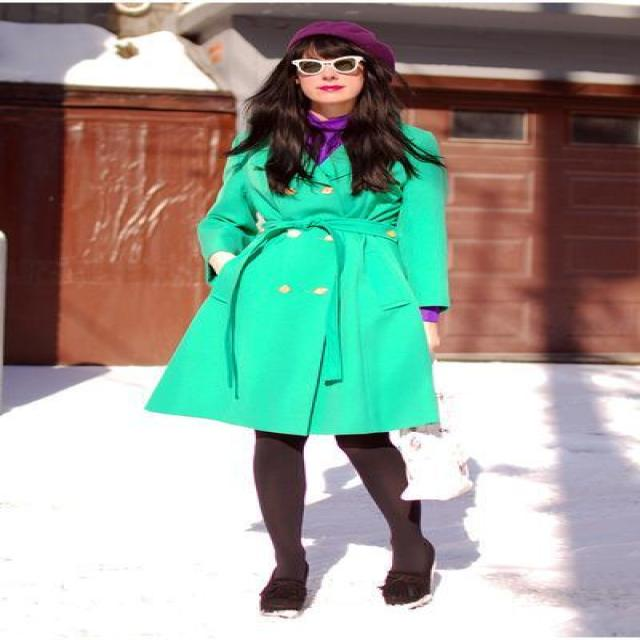hat: (256, 12, 379, 58)
jacket: (144, 121, 448, 435)
shoe: (259, 576, 429, 611)
